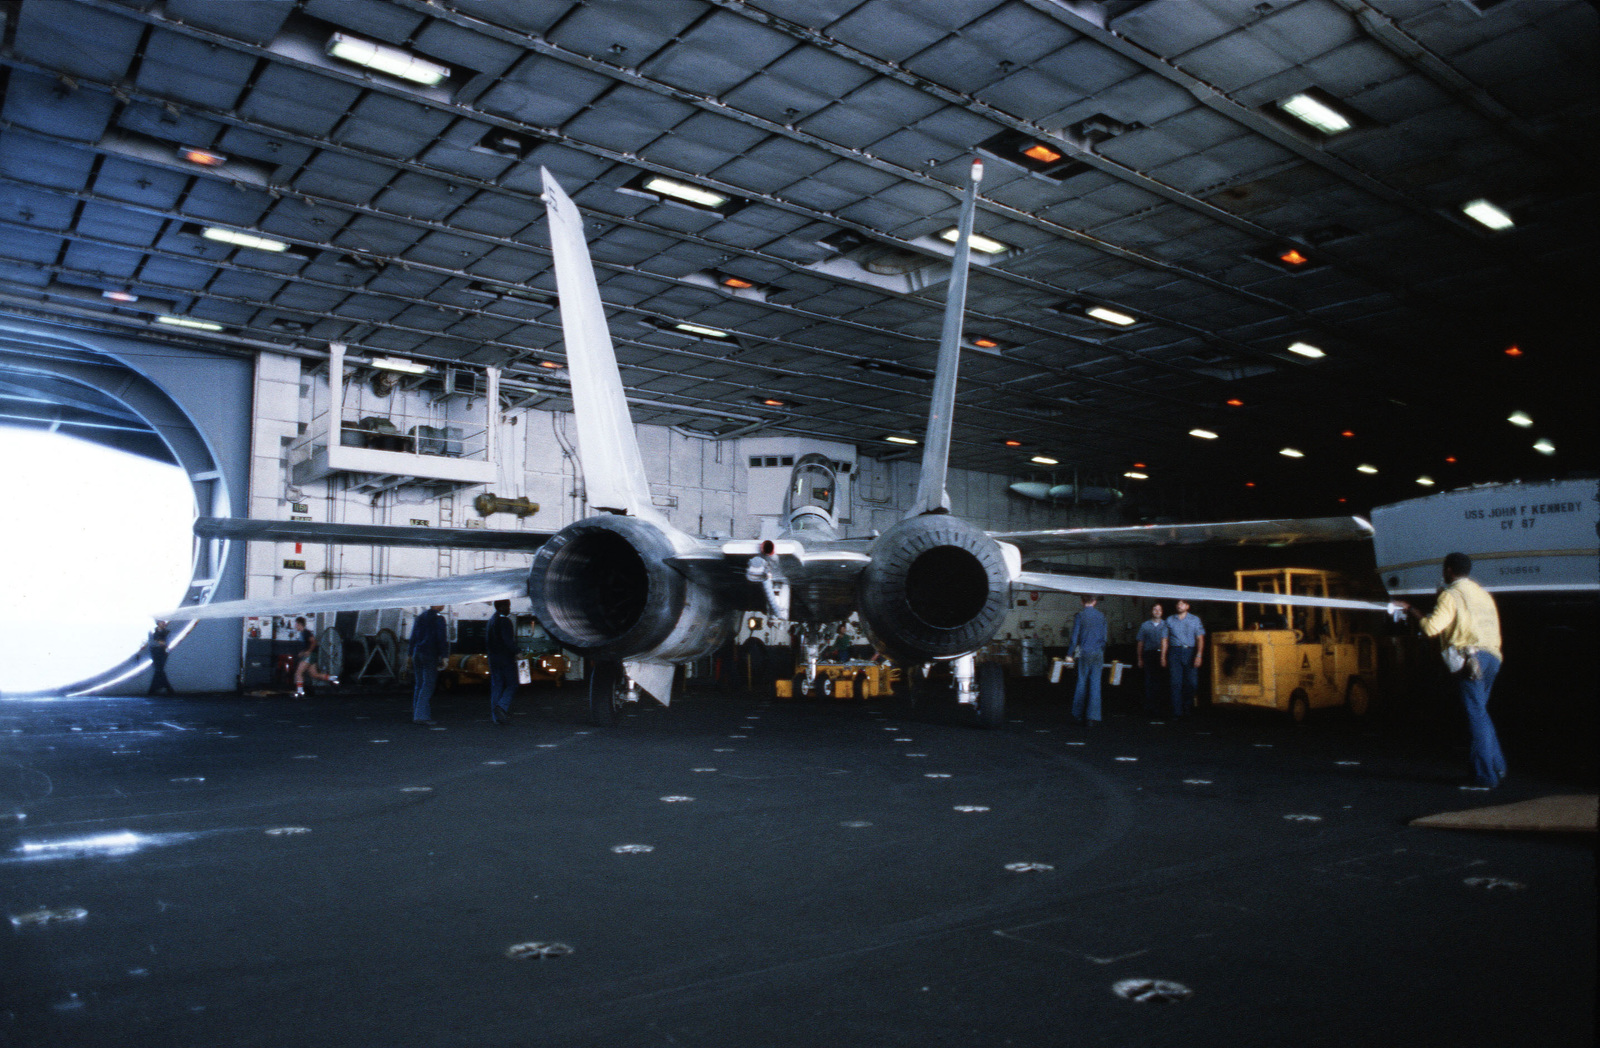F14: (149, 157, 1404, 729)
